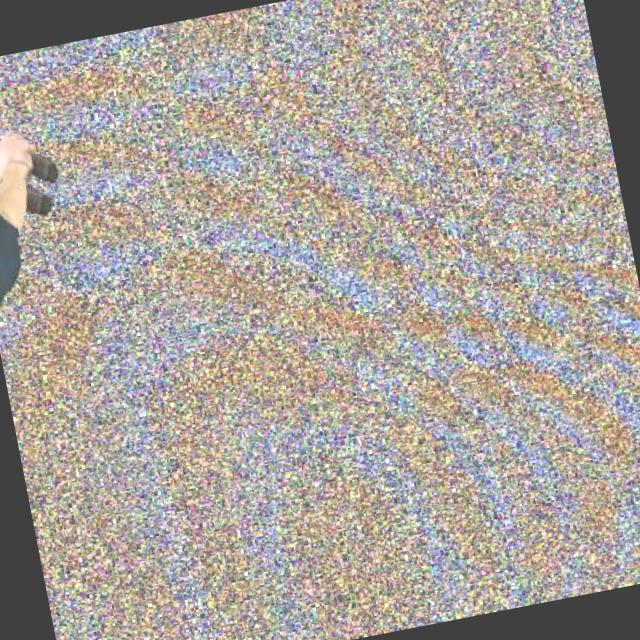Person: (0, 116, 89, 336)
